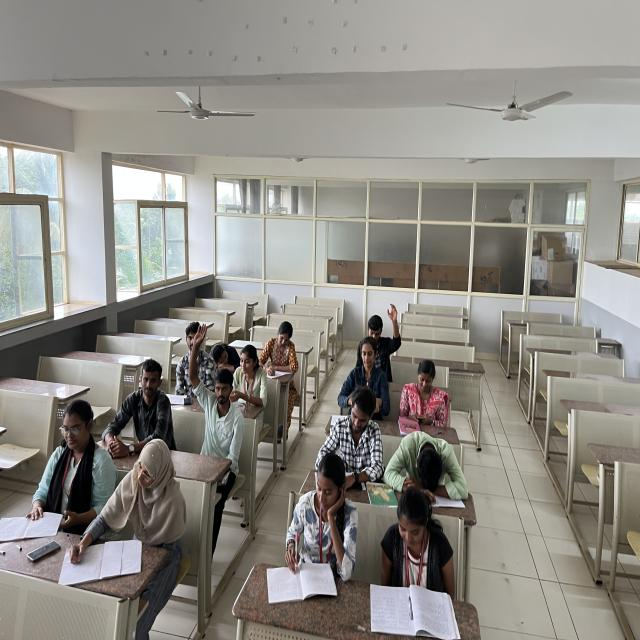Hand Rising: (185, 324, 241, 451), (357, 302, 404, 360)
Reading: (374, 484, 460, 634), (29, 398, 98, 527)
Sleeping: (386, 426, 465, 494), (207, 334, 240, 367)
Using Phone: (398, 356, 454, 430)
Writing: (65, 443, 165, 572), (278, 450, 358, 595), (262, 319, 302, 380)
